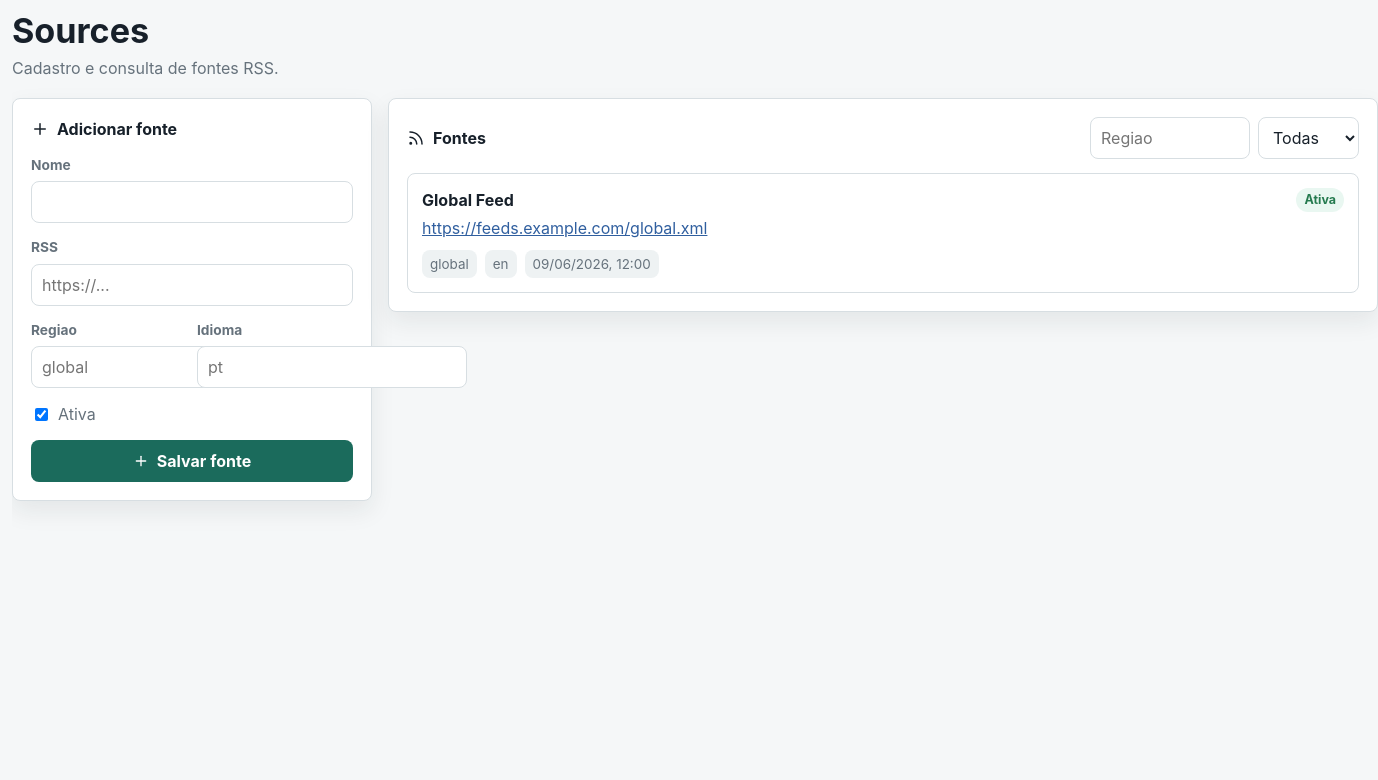
it: Sources › shows create-source errors without replacing the current list
Expected: the text "Global Feed" is shown, [422, 188, 514, 212]
In the field labelled "Nome": (192, 202) [31, 181, 353, 223], type "Global Feed"
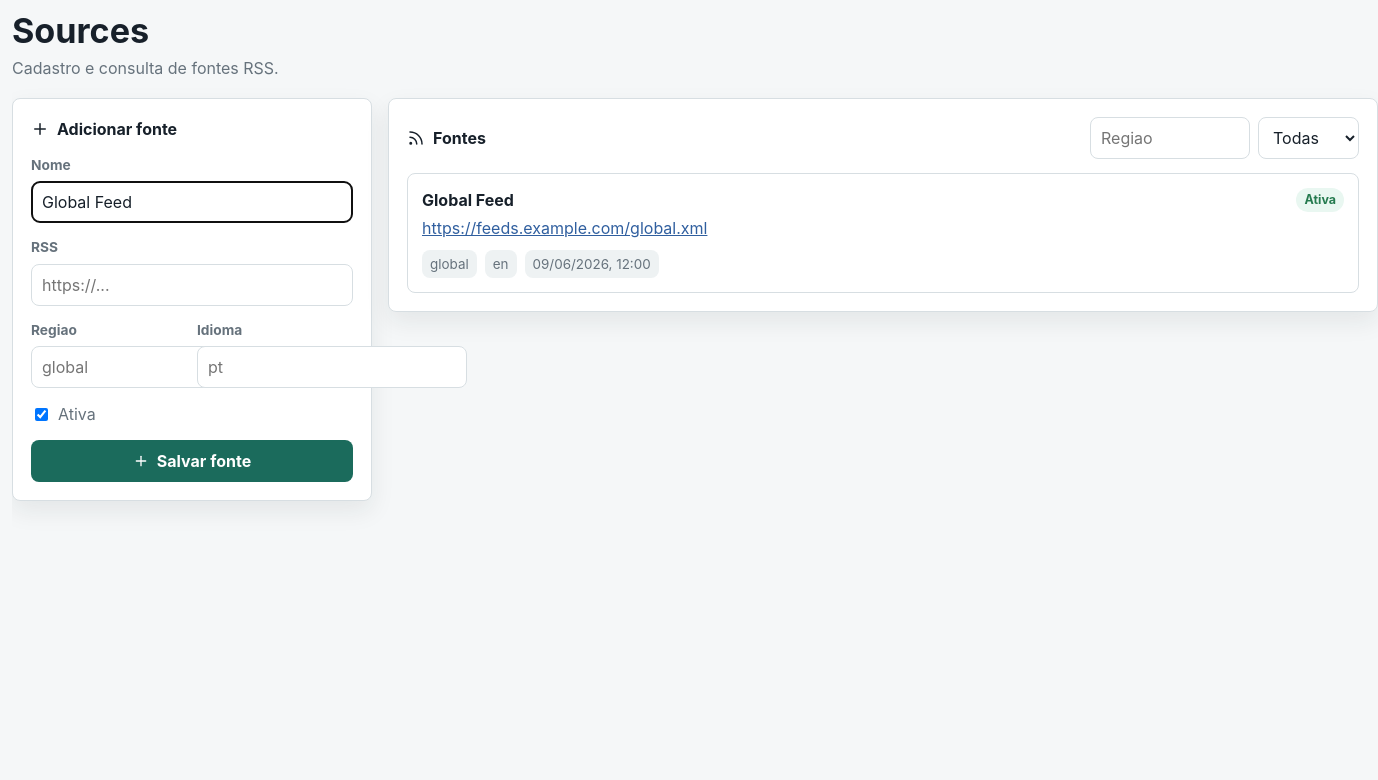
In the field labelled "RSS": (192, 285) [31, 264, 353, 306], type "https://feeds.example.com/global.xml"
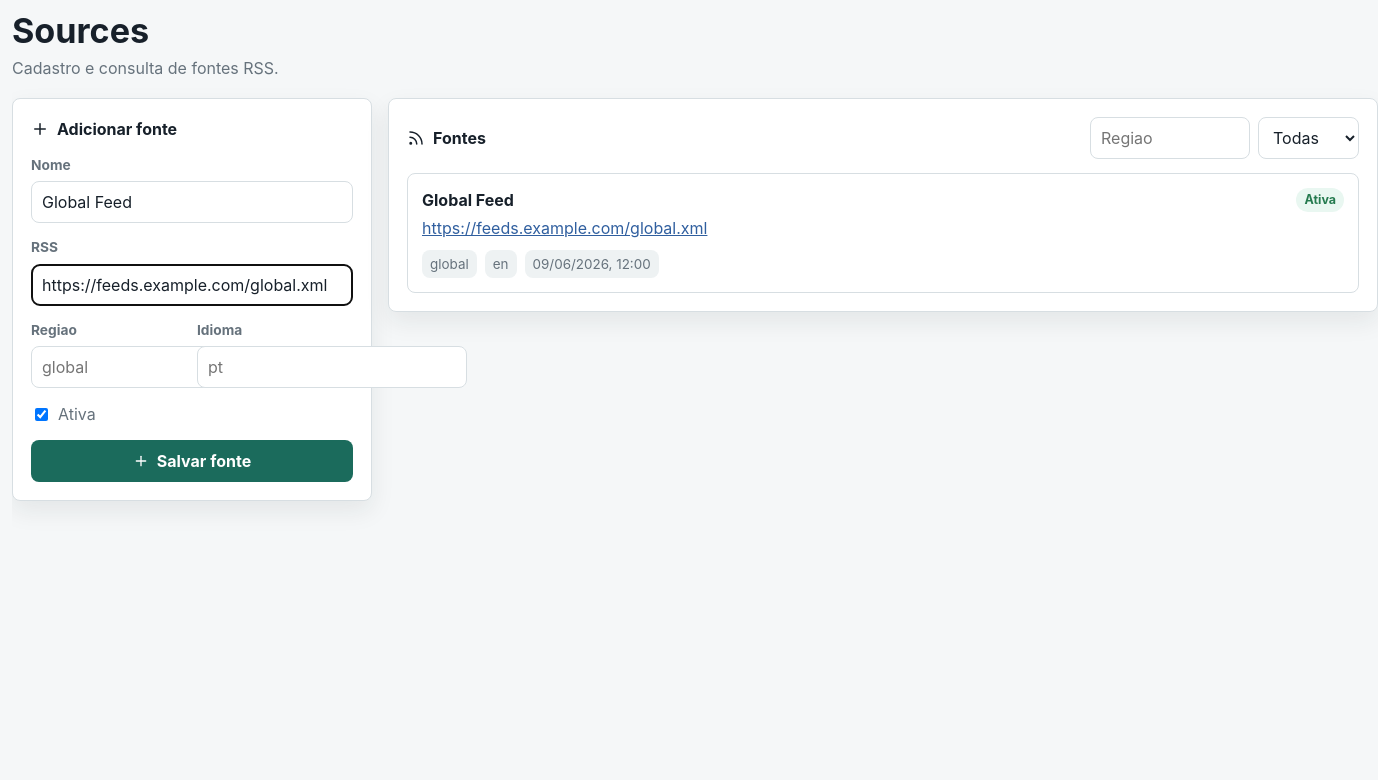
Click the button "Salvar fonte": (192, 462) [31, 440, 353, 482]
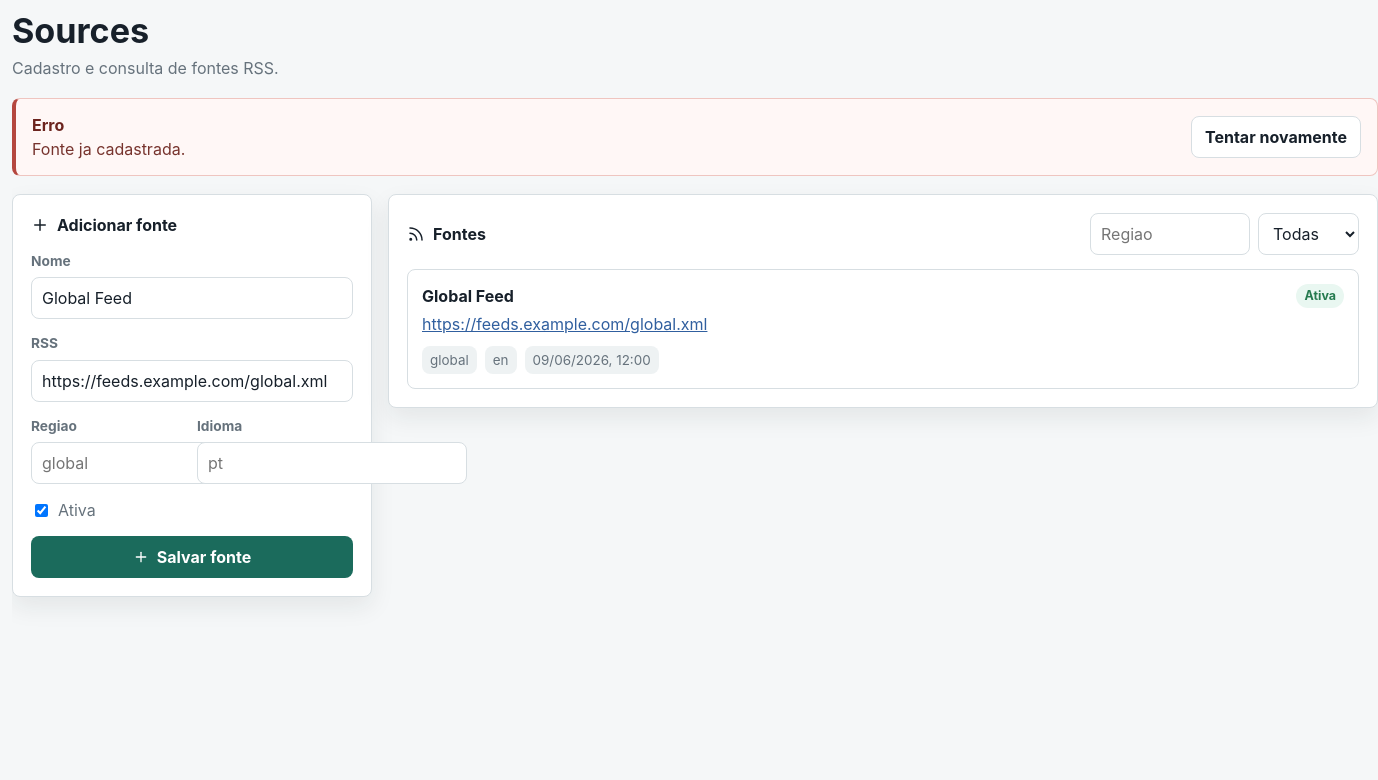
Expected: the text "Global Feed" is shown, [422, 284, 514, 308]
Expected: the message shows "Fonte ja cadastrada.", [32, 139, 185, 159]
